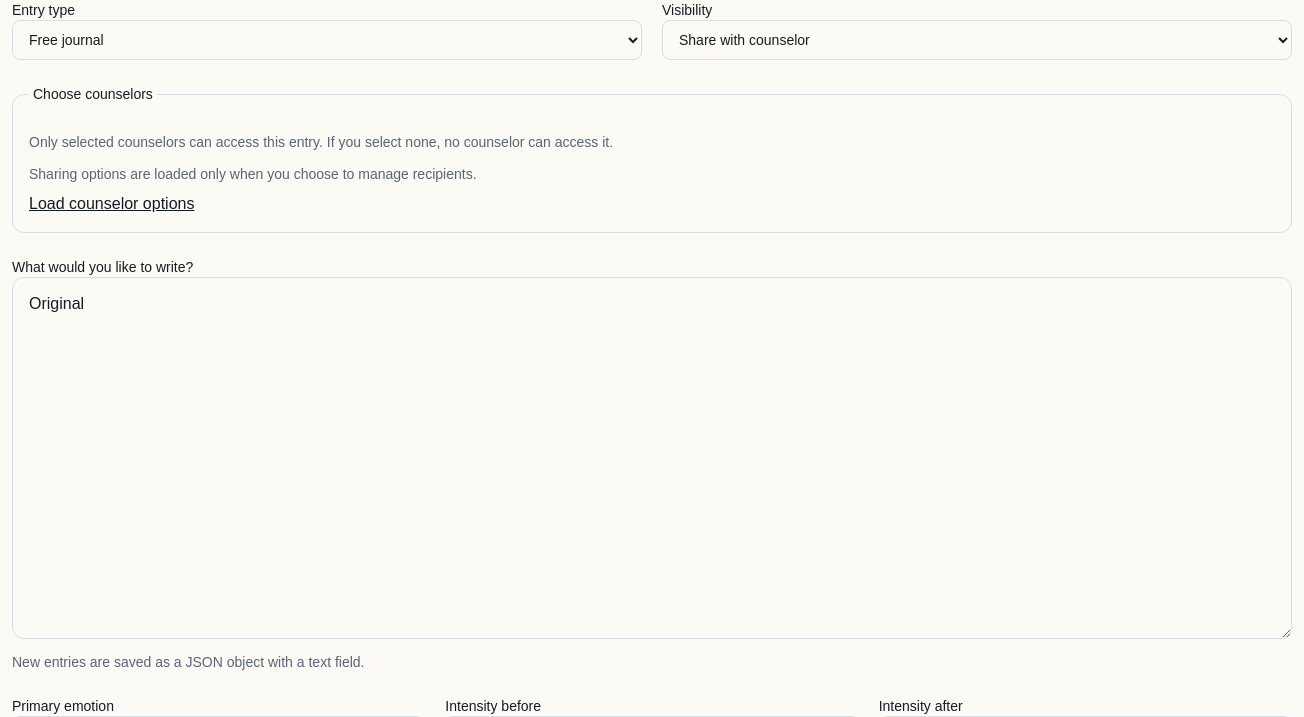
Test: editing diary sharing › preserves draft on 409 and requires explicit refresh and review
Click the button "Load counselor options" at (112, 204), box [29,192,194,216]
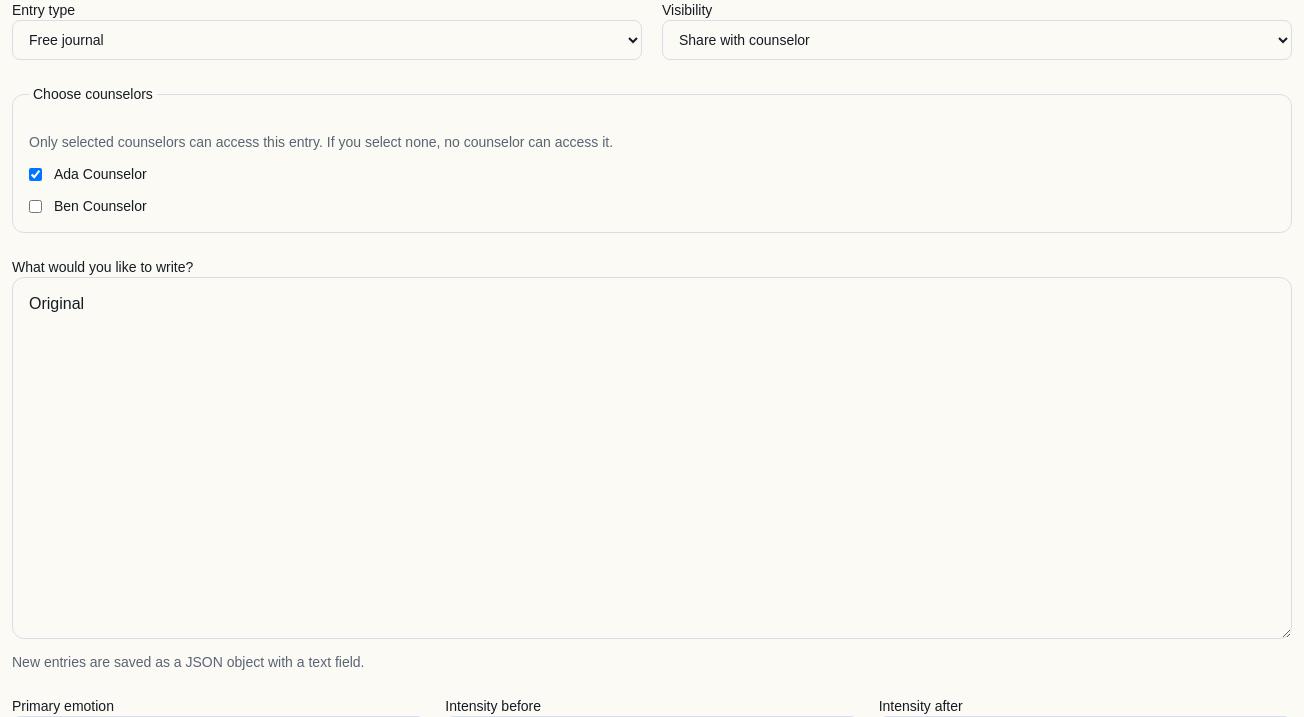
Click the checkbox labelled "Ada Counselor" at (36, 174), box [29,168,42,180]
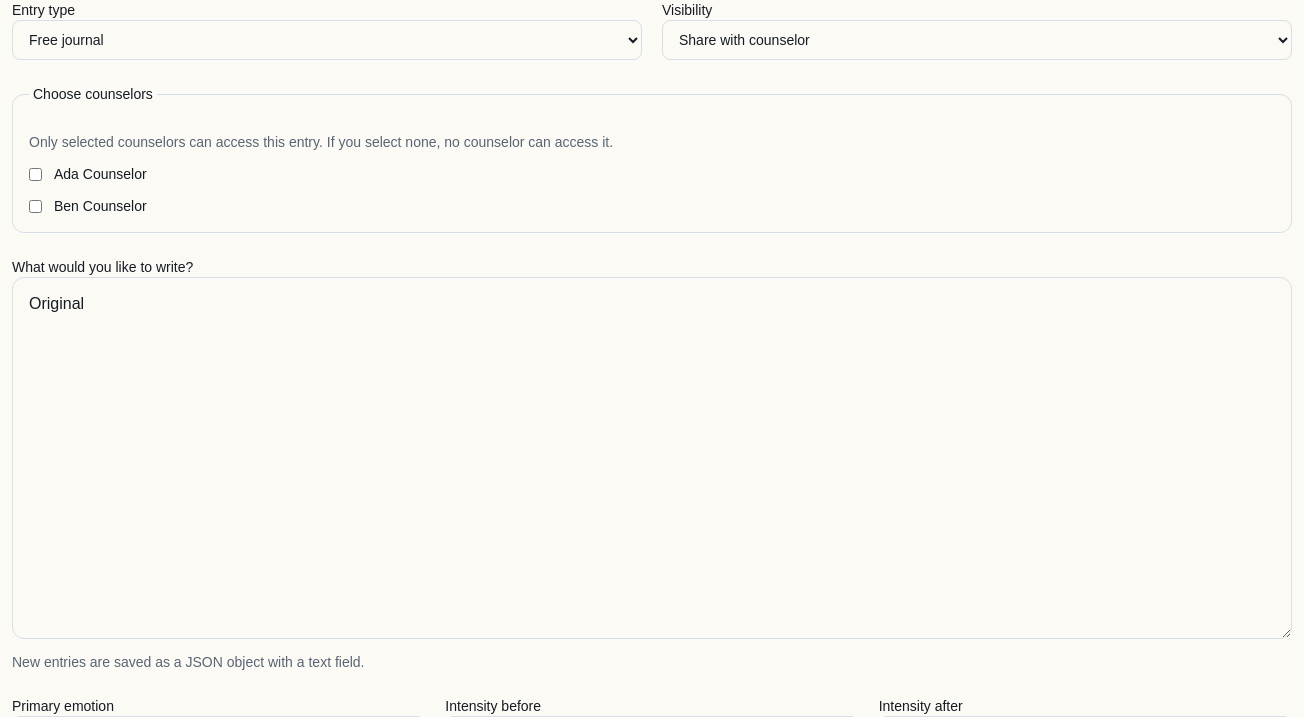
Replace the text in the text box with placeholder "Begin wherever you are…" with "Unsaved draft" at (652, 458), box [12,277,1292,639]
(page scrolled)
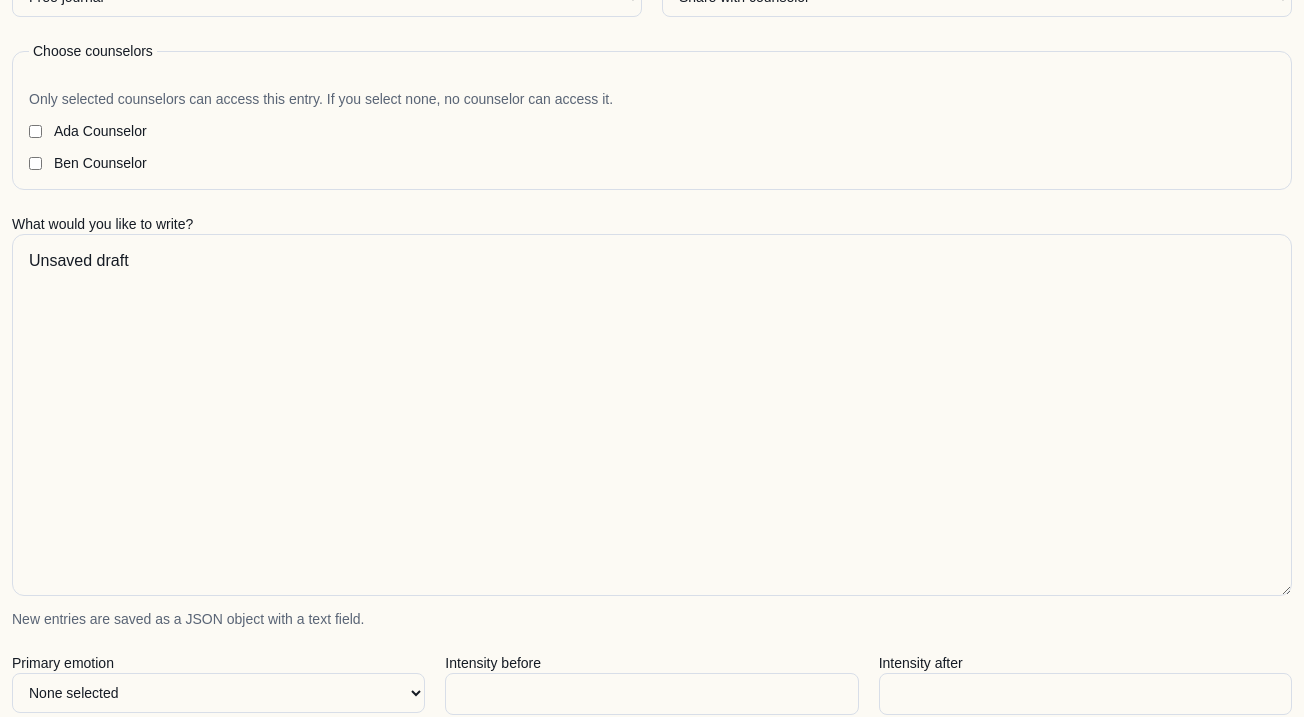
Submit the form named "Save changes"
(page scrolled)
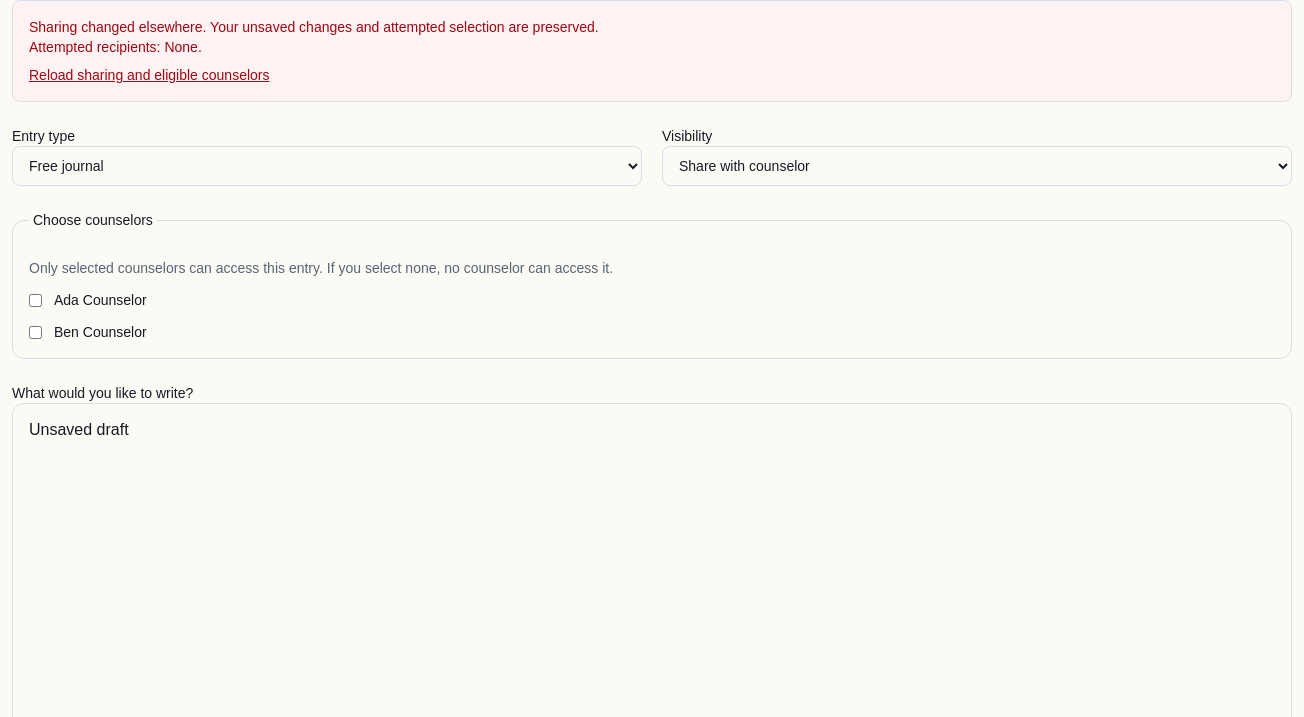
Check: the text "Your unsaved changes and attempted selection are preserved" is shown, box [206,19,599,35]
Click the button "Reload sharing and eligible counselors" at (149, 75), box [29,65,270,85]
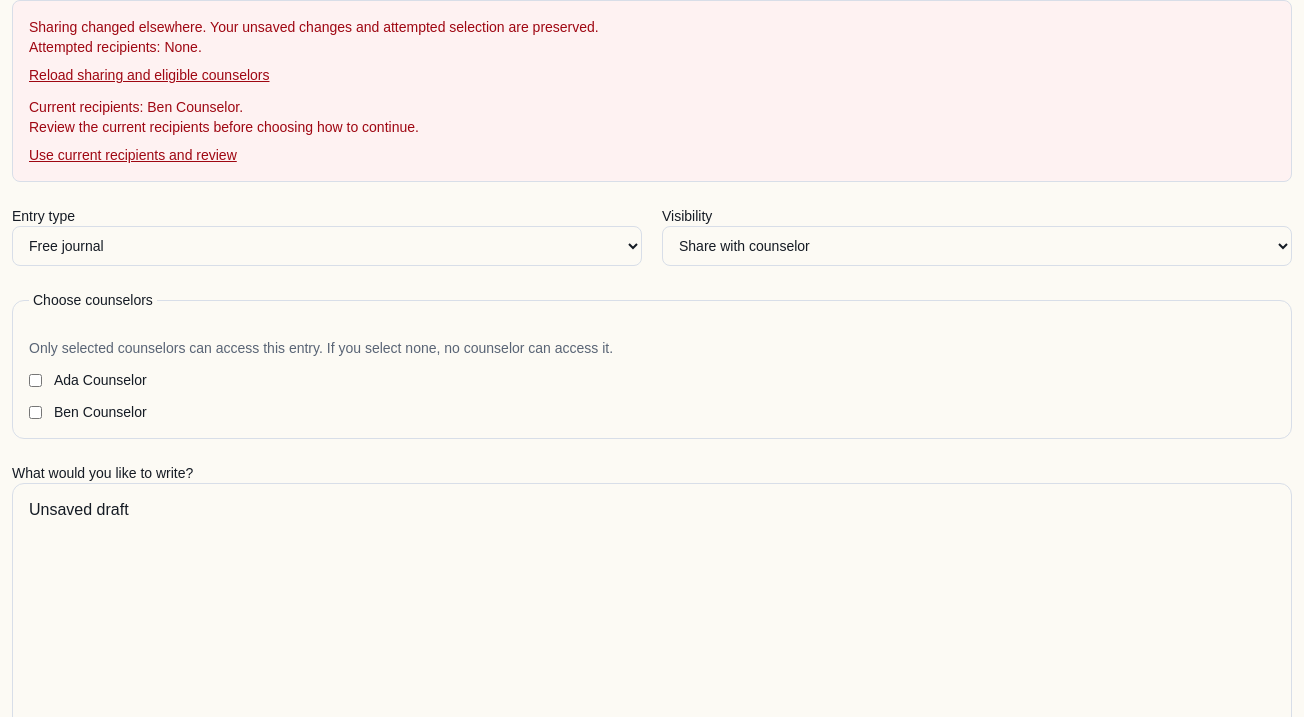
Check: the text "Current recipients: Ben Counselor." is shown, box [29,99,243,115]
Click the button "Use current recipients and review" at (133, 155), box [29,145,237,165]
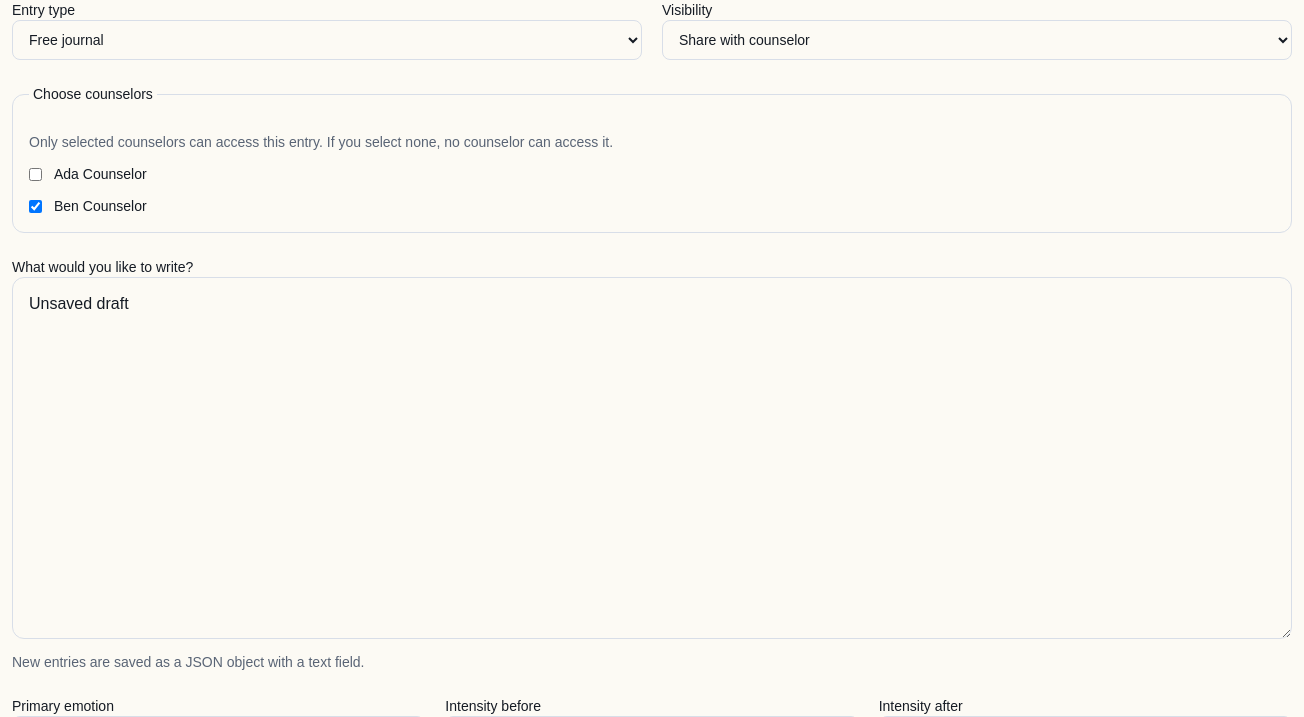
Check: the checkbox labelled "Ben Counselor" is checked, box [29,200,42,212]
